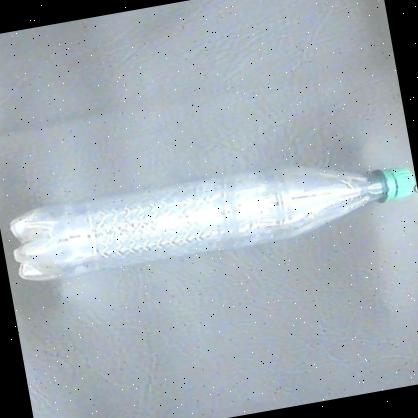bottle: (2, 137, 418, 289)
cap: (375, 158, 418, 208)
